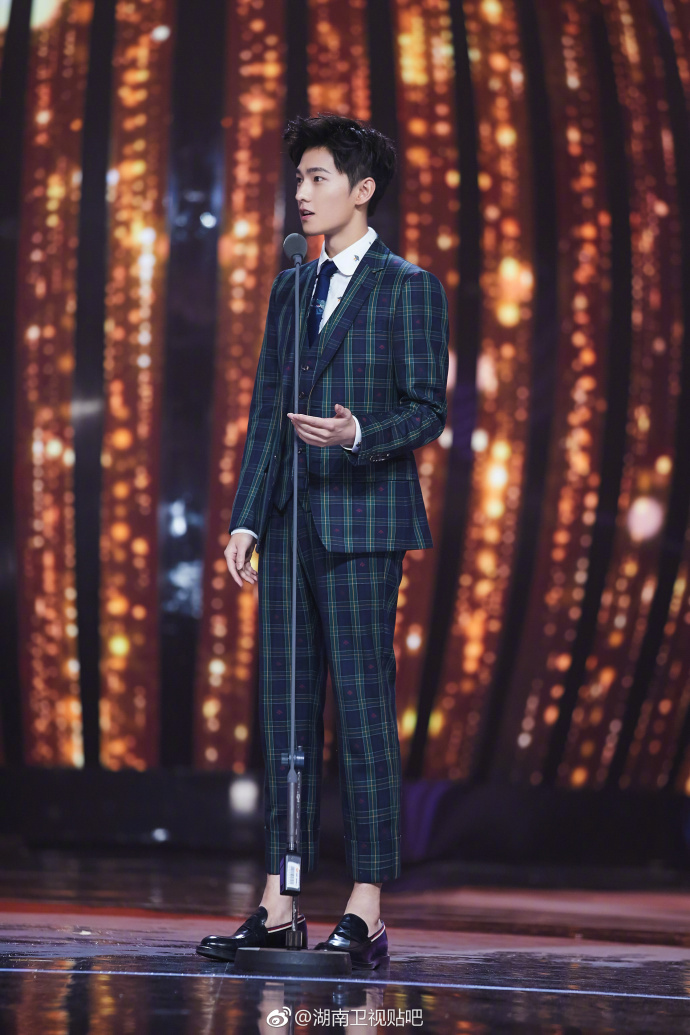other: (210, 112, 451, 987)
